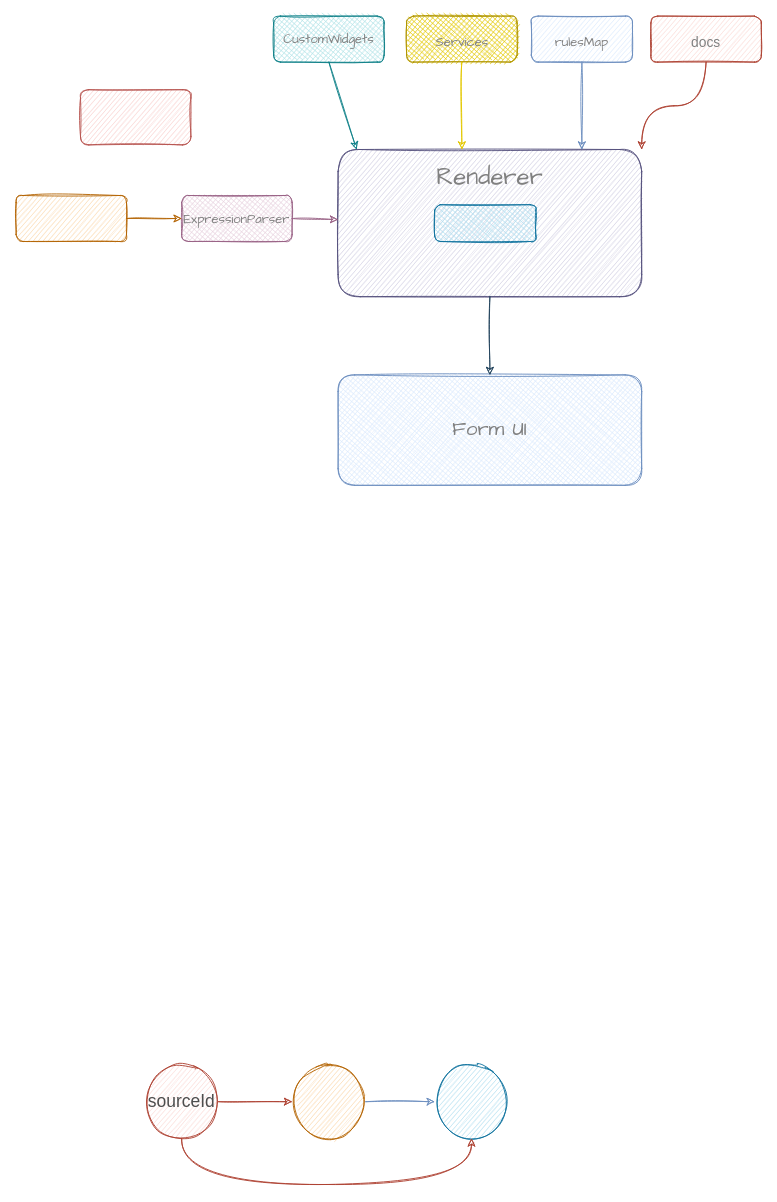
This 777x1202 diagram has some shape labels left out. Here are the shapes that lost their labels. From the top down, the box of each, then its label:
(15, 195, 126, 242): Config
(434, 204, 536, 242): extraData
(291, 1064, 366, 1138): schema
(434, 1064, 508, 1138): table
